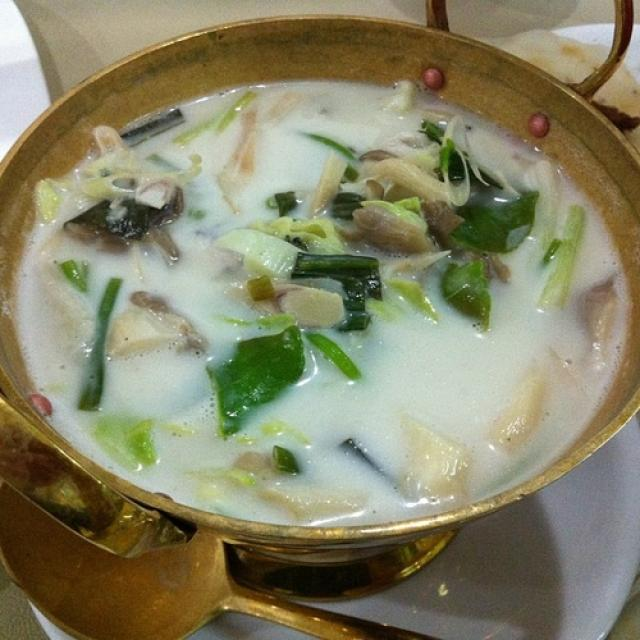汤锅炖物: (26, 48, 631, 554)
